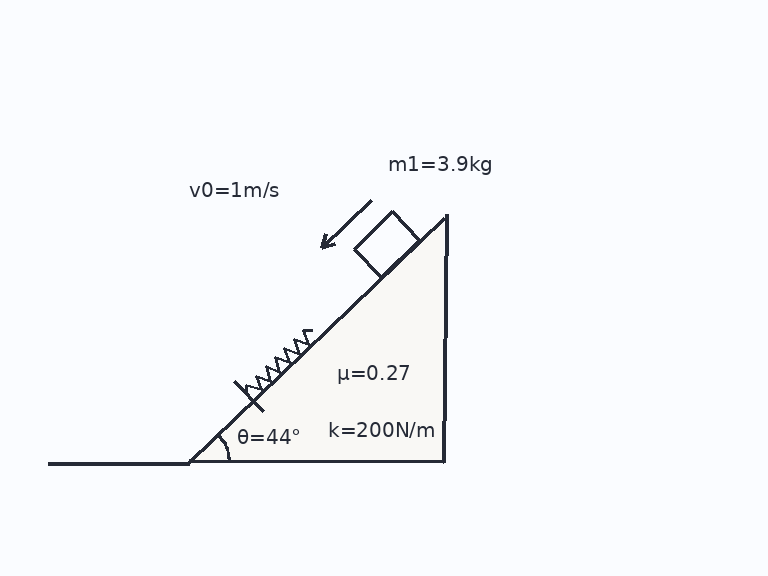block: (352, 210, 421, 279)
ramp: (187, 214, 446, 464)
spring: (244, 328, 315, 396)
